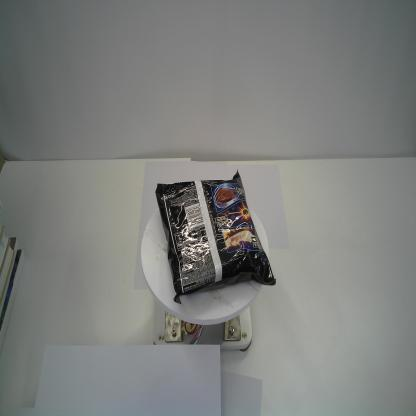Instant Noodles: (154, 168, 277, 305)
